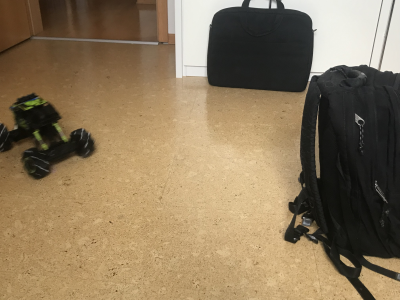remote control car: (1, 90, 97, 180)
